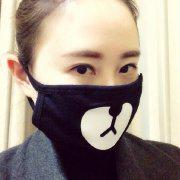OK: (36, 40, 142, 150)
